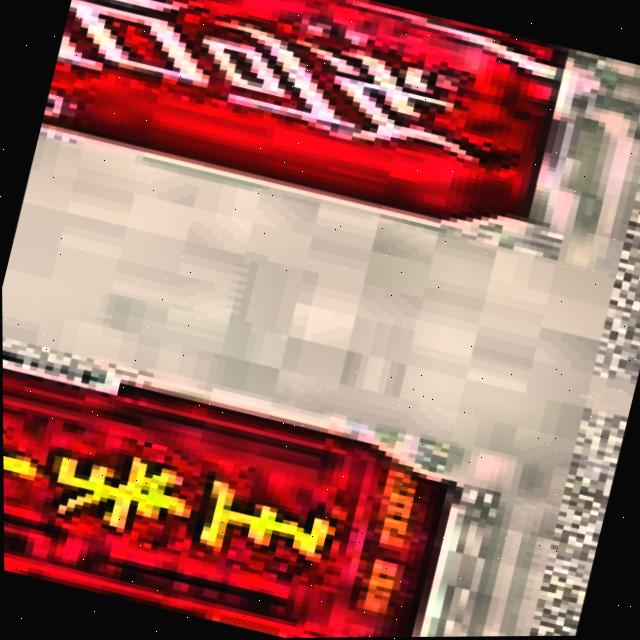metal: (34, 0, 636, 280), (2, 327, 510, 640)
